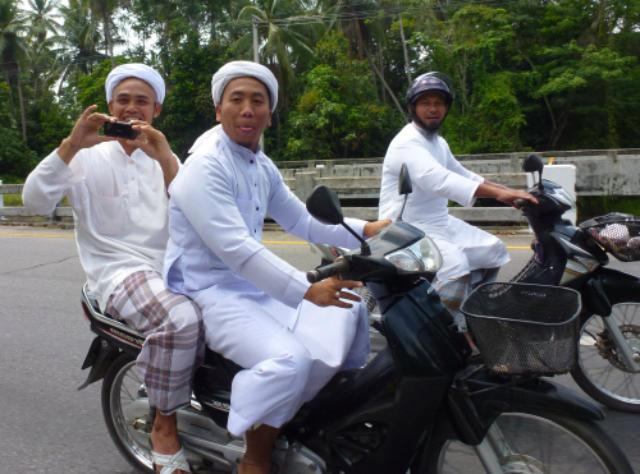helm: (407, 73, 454, 131)
motor: (76, 163, 630, 474), (504, 152, 639, 421)
non-helm: (212, 62, 280, 147), (106, 64, 166, 134)
